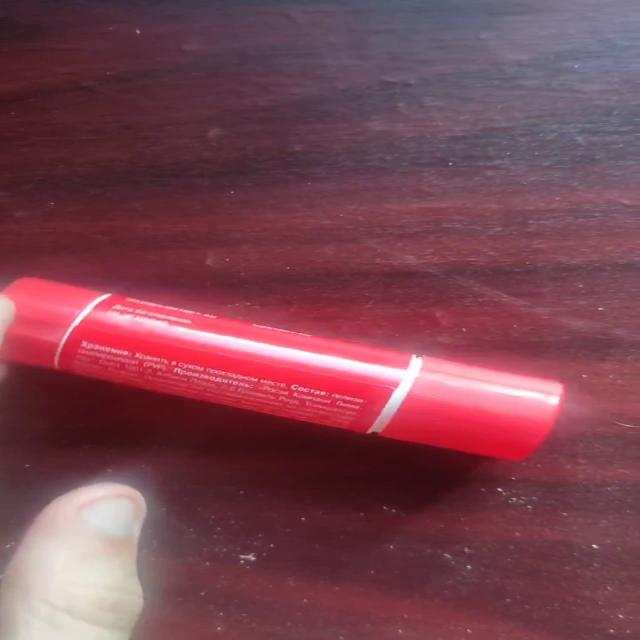glue: (1, 275, 566, 462)
